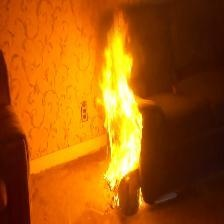fire: (96, 8, 139, 188)
